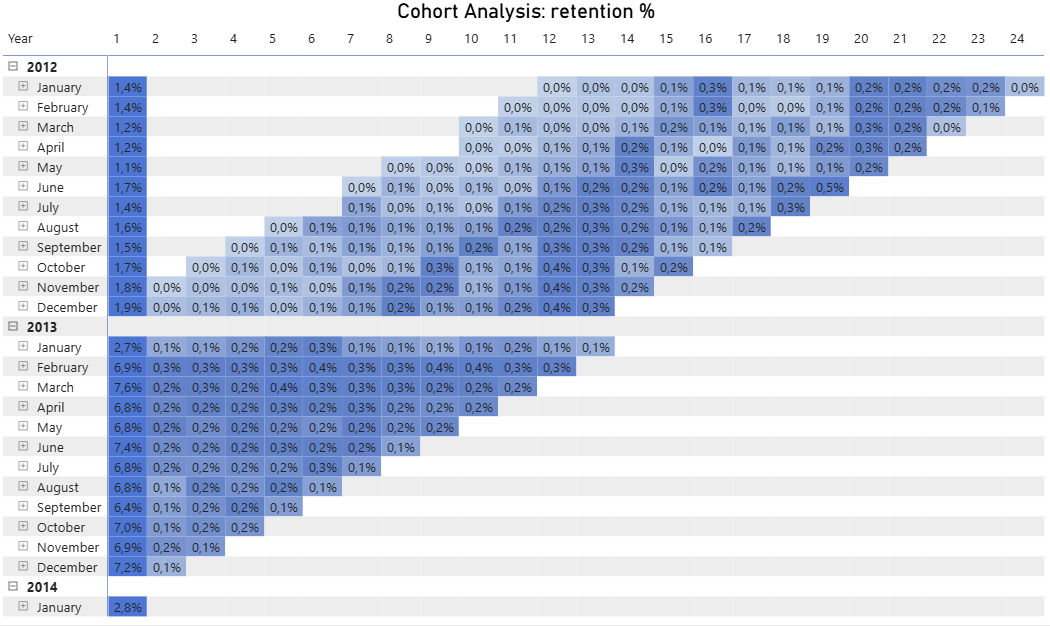

This screenshot's page, from the dashboard's own definition file:
{"tool":"powerbi","page":{"name":"cohort","canvas":[1280,720],"ordinal":1},"visuals":[{"type":"pivotTable","title":"Cohort Analysis: retention %","fields":{"Rows":["cohort.cohort_date.Variation.Date Hierarchy.Year","cohort.cohort_date.Variation.Date Hierarchy.Month","cohort.cohort_date.Variation.Date Hierarchy.Day"],"Columns":["cohort.cohort_index"],"Values":["cohort.Retention %"]},"box":[111.2,45,1056.2,628.8],"z":0}]}

Visuals, with their boxes on the page's 1280x720 design canvas (x1, y1, x2, y2). These are canvas units, not pixel positions in the 1050x626 screenshot, which may show the page scaled, cropped or inside an application window:
"Cohort Analysis: retention %" pivotTable: detection(111, 45, 1167, 674)
